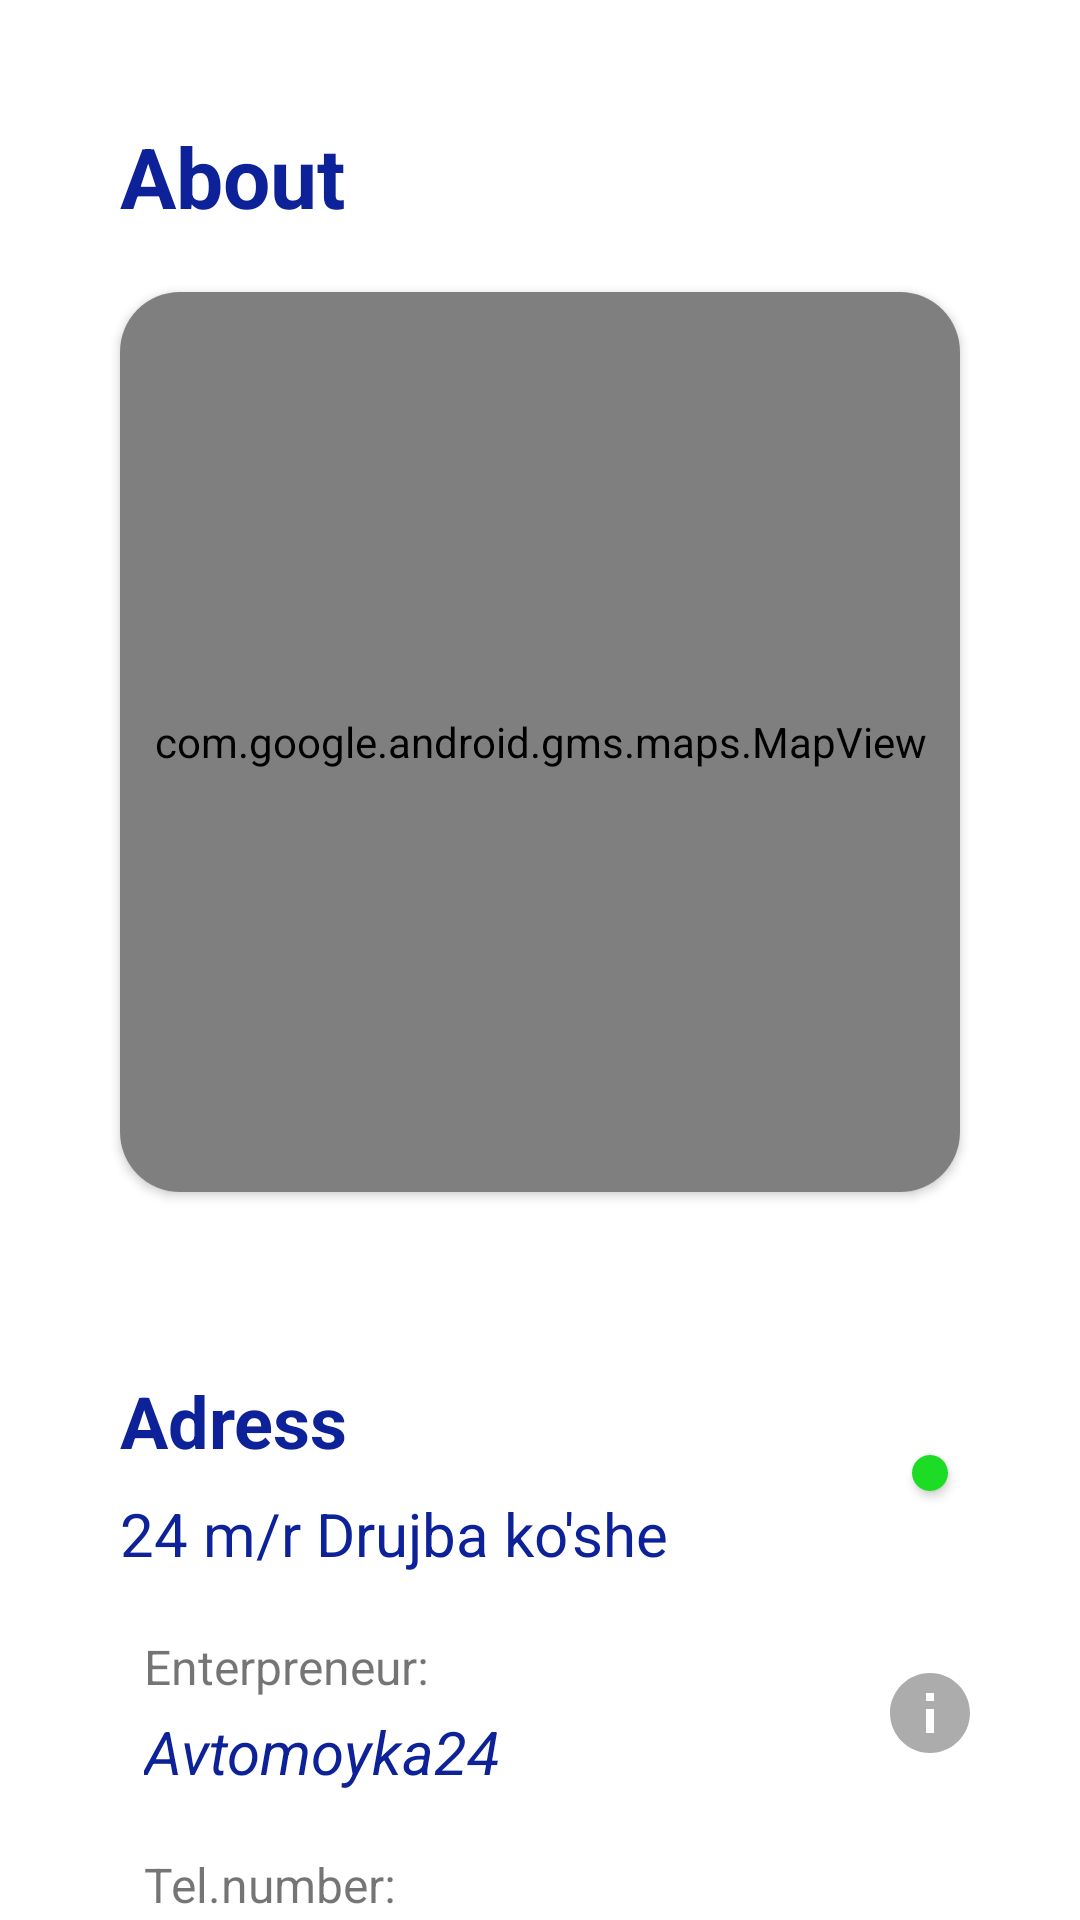

Screen size 1080×1920. Icon name, then its center in pixels as (x,y):
infoo: (930,1713)
